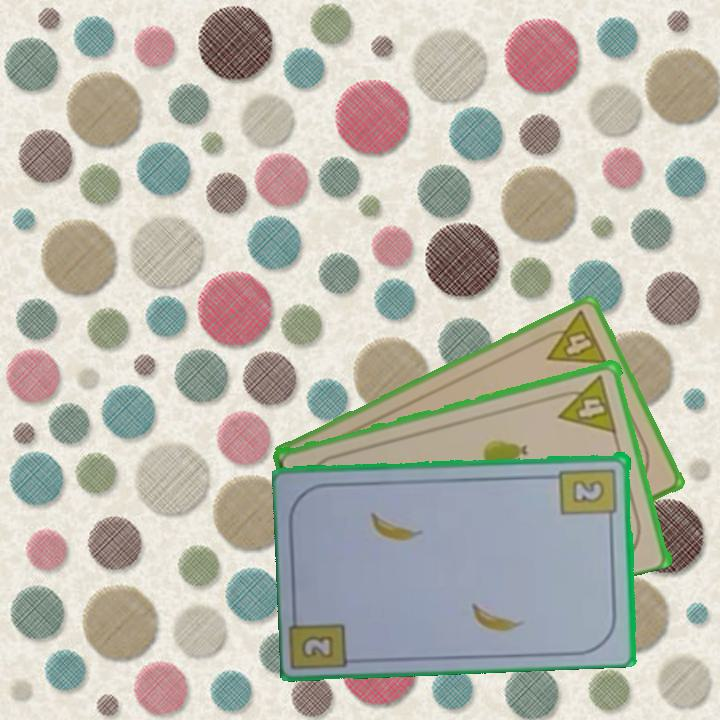2b: (557, 464, 620, 526), (297, 631, 337, 661)
4p: (534, 307, 611, 368), (551, 371, 619, 435)
